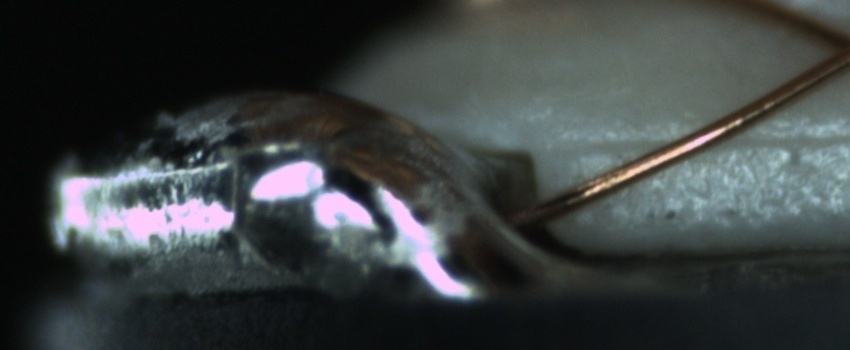CL: (805, 11, 850, 81)
DL: (572, 109, 845, 172)
